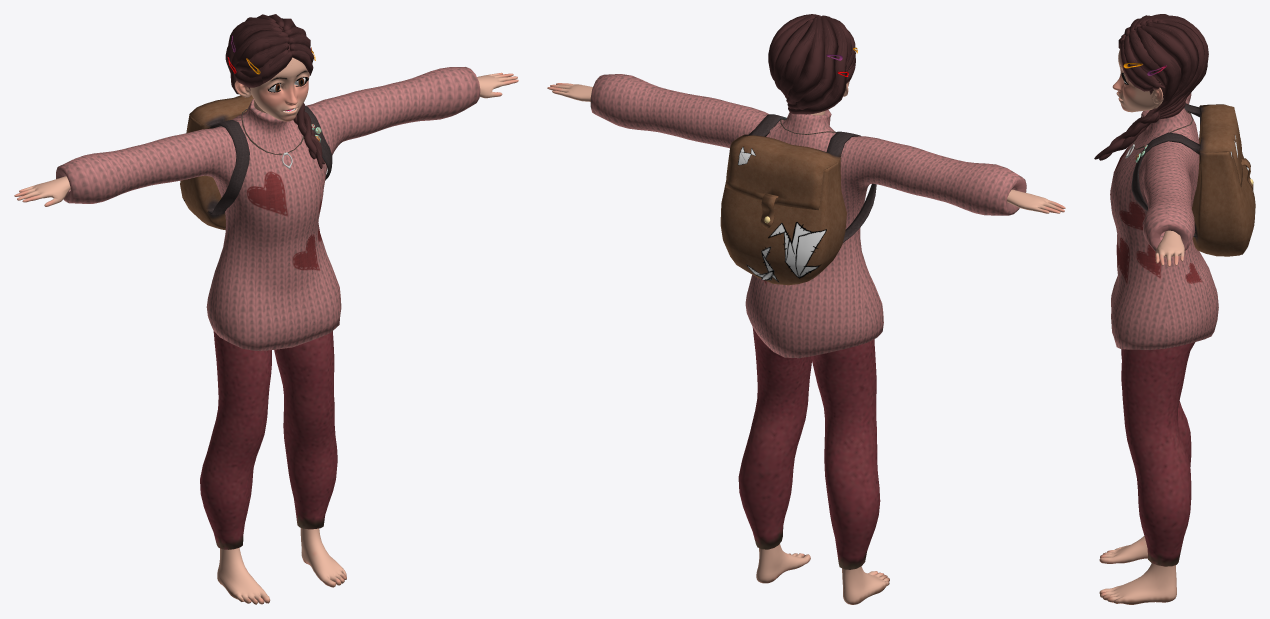
File: Phoebe.fbx
3 renders of one model, left to right at view 1: azimuth 30°, elevation 25°; view 2: azimuth 150°, elevation 25°; view 3: azimuth 270°, elevation 25°, orthographic. The views are drawn at different scales.
Visible parts, largest first — view 1: Phoebe_Body, Phoebe_Hair; view 2: Phoebe_Body, Phoebe_Hair; view 3: Phoebe_Body, Phoebe_Hair.
Part boxes in pixels (<box>): Phoebe_Body: <box>14,27,518,604</box>; Phoebe_Hair: <box>225,14,324,168</box>; Phoebe_Body: <box>547,47,1065,604</box>; Phoebe_Hair: <box>768,14,855,114</box>; Phoebe_Body: <box>1099,24,1255,604</box>; Phoebe_Hair: <box>1094,14,1208,160</box>.
Size of the model in its own units: 137 by 145 by 37.86.
